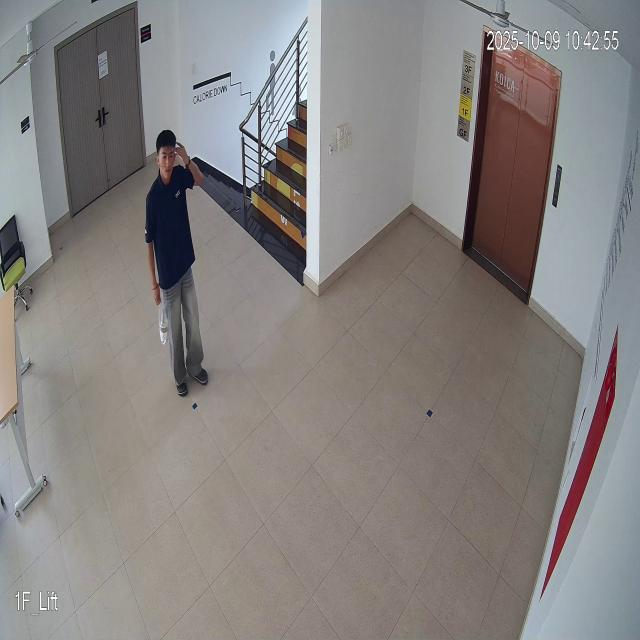face: (151, 120, 181, 186)
